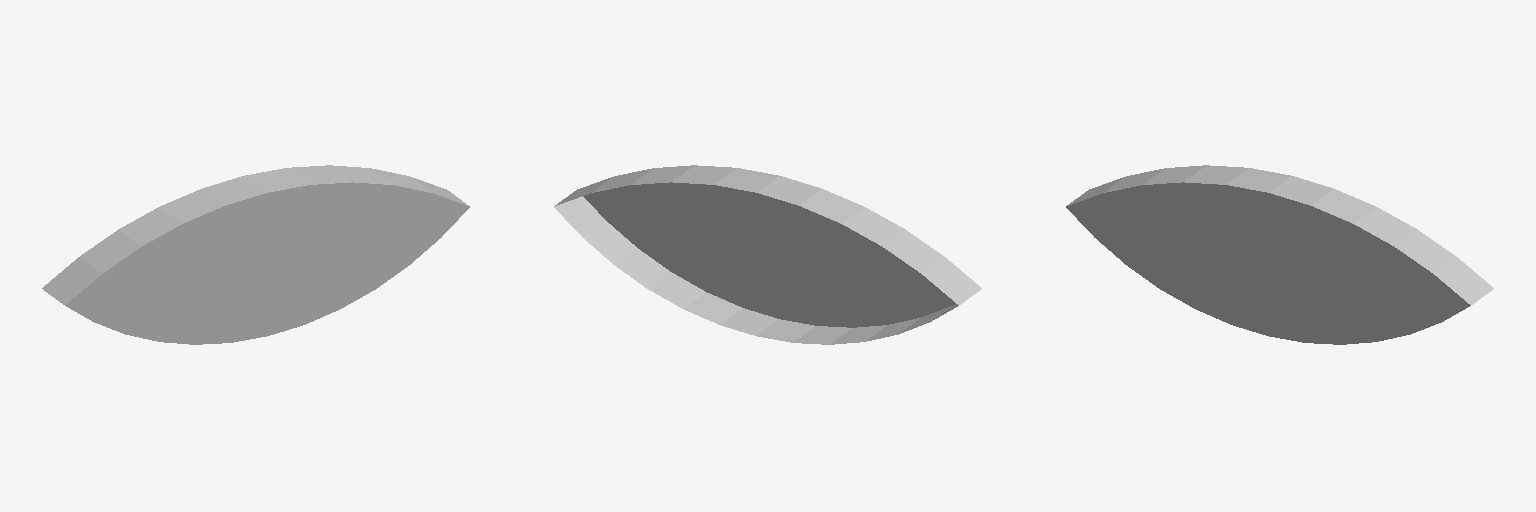
The model's file is original-39.obj.
3 views of the same model, side by side, from view 1: azimuth 30°, elevation 25°; view 2: azimuth 150°, elevation 25°; view 3: azimuth 330°, elevation 25° (orthographic).
Visible parts, largest first — view 1: #ID239; view 2: #ID239; view 3: #ID239.
Part boxes in pixels (bbox=[...]): #ID239: bbox=[42, 165, 469, 344]; #ID239: bbox=[554, 165, 981, 344]; #ID239: bbox=[1066, 165, 1493, 344].
Size of the model in its own units: 0.2495 by 0.0844 by 0.0249.